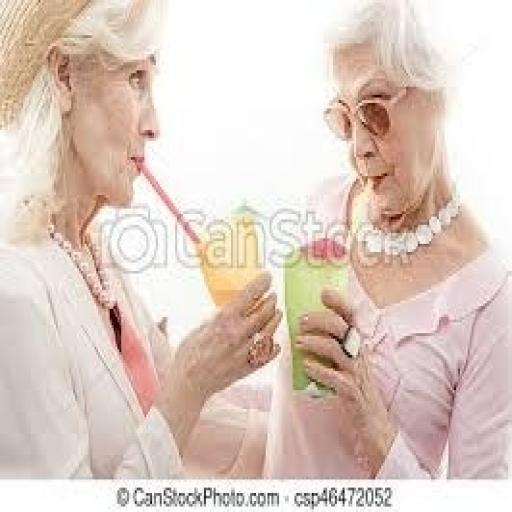drinking: (40, 57, 267, 409), (282, 64, 432, 400)
